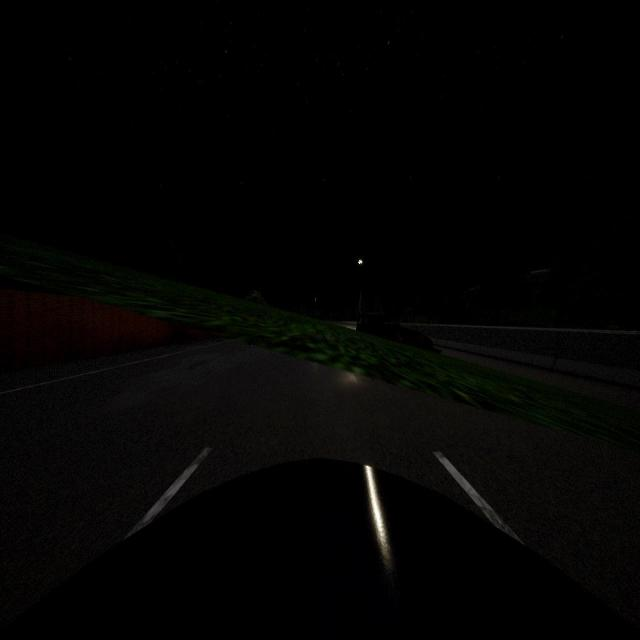Vehicle: (0, 459, 640, 638), (358, 313, 434, 354)
